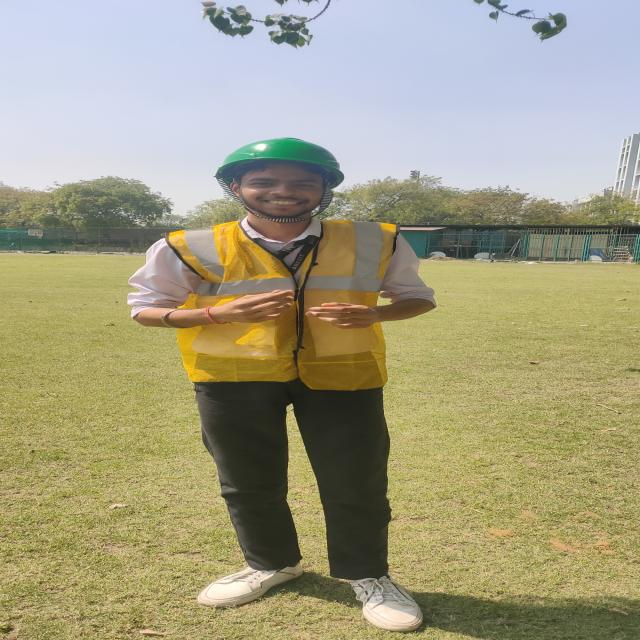safe: (131, 138, 435, 632)
